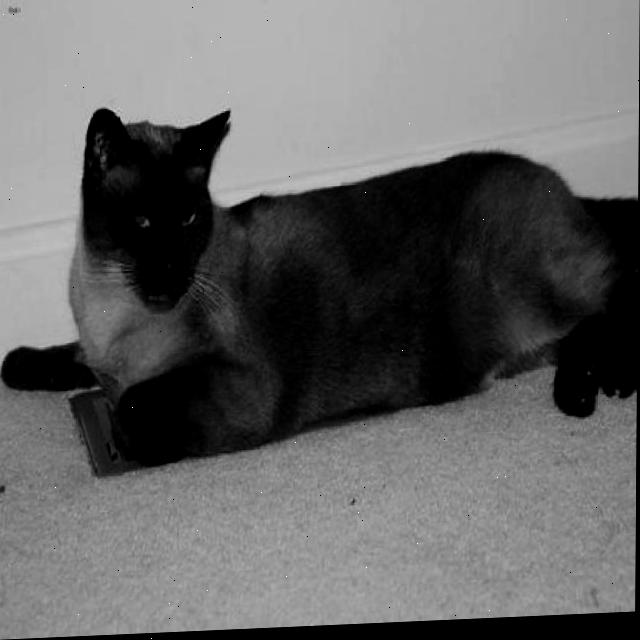Cat: (1, 81, 638, 475)
